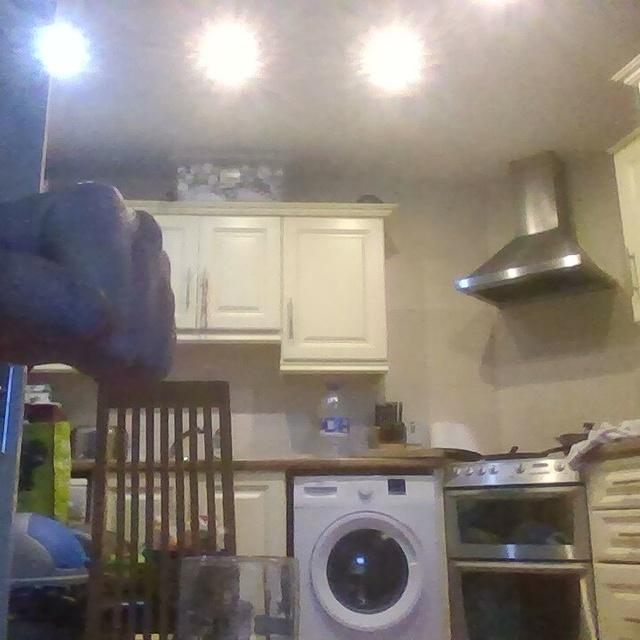rock: (0, 160, 185, 409)
